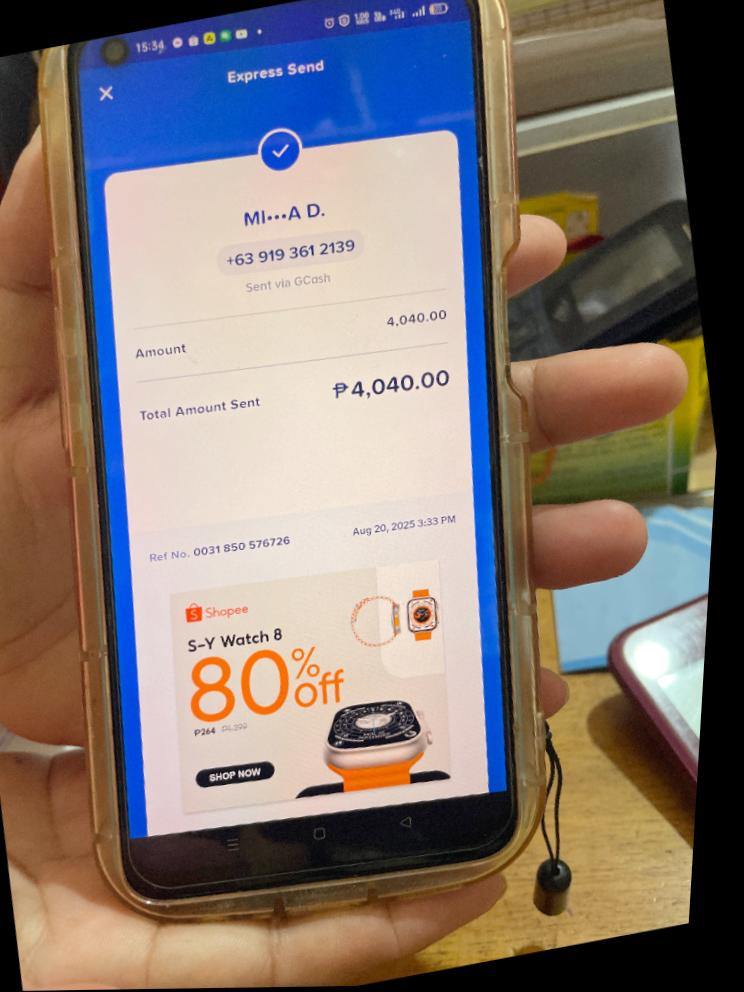Receipt: (81, 25, 506, 839)
